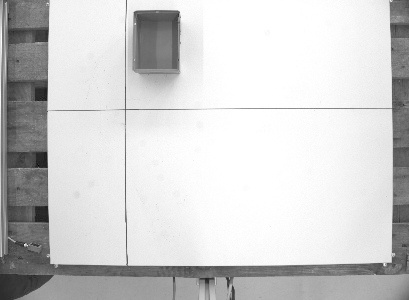klts: (129, 7, 185, 76)
